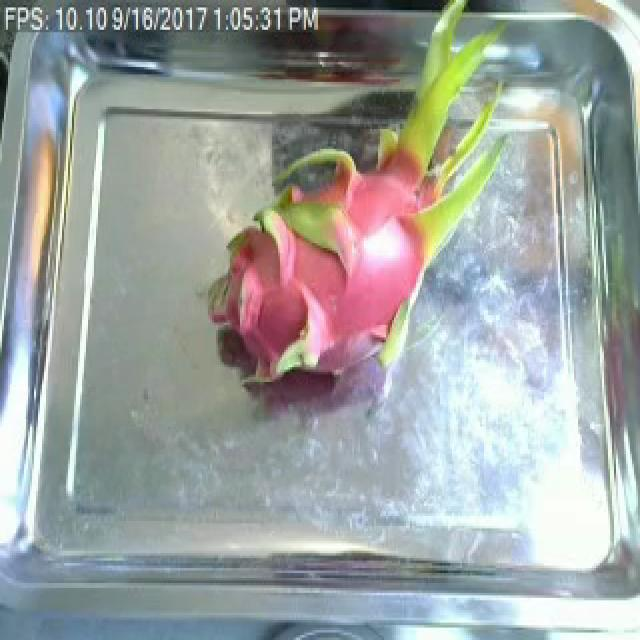fruit: (188, 69, 524, 402)
